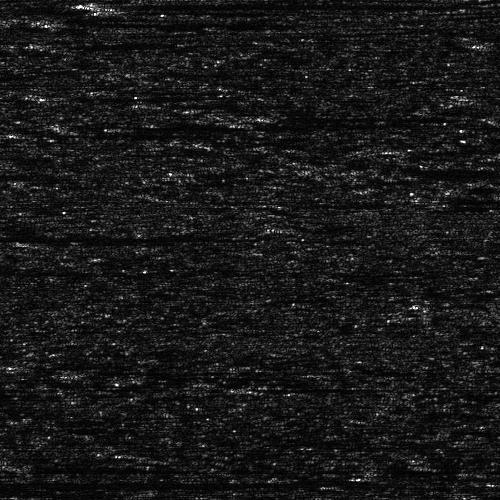object: (0, 17, 109, 24), (216, 385, 299, 394), (74, 1, 137, 6), (129, 69, 170, 76), (20, 93, 73, 98)
shadow: (0, 473, 338, 492), (105, 1, 500, 6), (51, 17, 285, 24), (150, 69, 308, 76), (47, 93, 199, 98), (258, 385, 337, 394)
